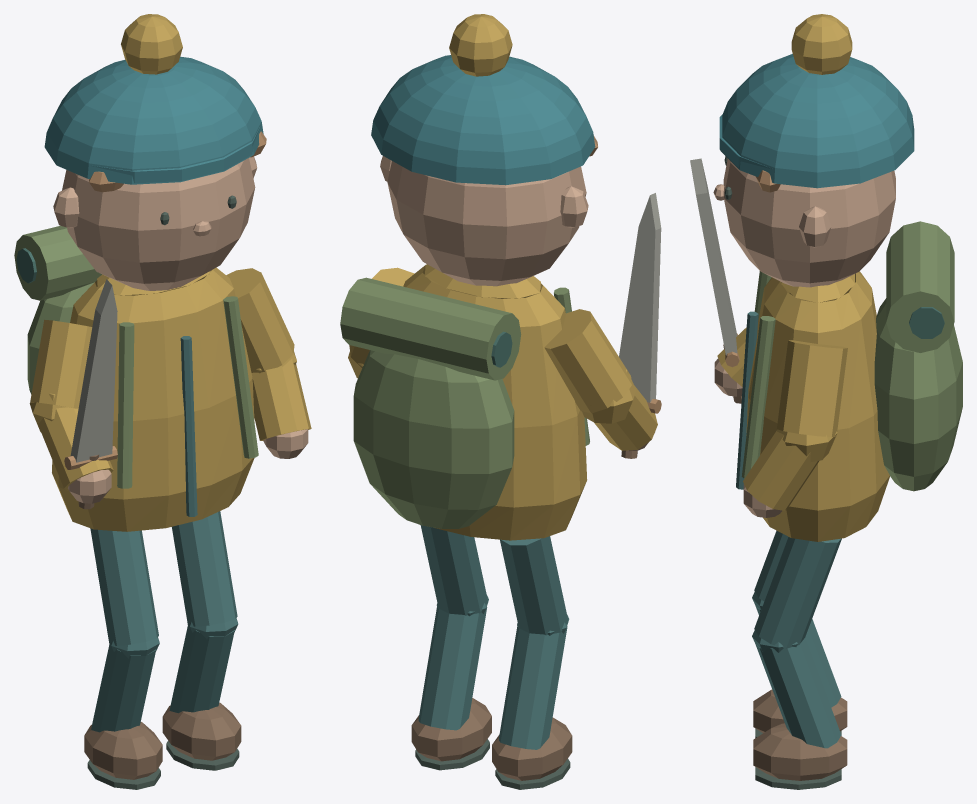
The model's file is traveler-reference.gltf.
3 views of the same model, side by side, from view 1: azimuth 30°, elevation 25°; view 2: azimuth 150°, elevation 25°; view 3: azimuth 270°, elevation 25° (orthographic). The views are drawn at different scales.
Parts seen in each view (by area): view 1: Right-handed traveler reference; view 2: Right-handed traveler reference; view 3: Right-handed traveler reference.
Part boxes in pixels (x1,y1,x2,y2): Right-handed traveler reference: (14, 14, 311, 789); Right-handed traveler reference: (340, 14, 661, 789); Right-handed traveler reference: (690, 14, 962, 789).
Bounding box in the file's own units: 0.958 × 2.52 × 0.8403.
